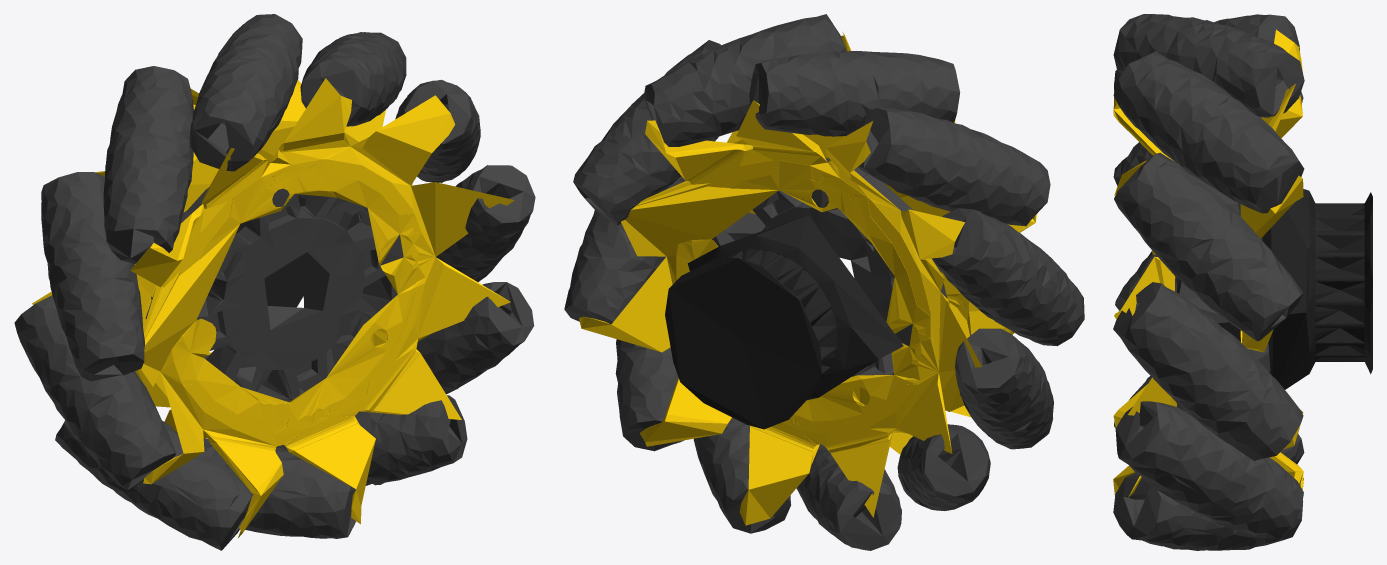
File: wheelFL.glb
3 views of the same model, side by side, from view 1: azimuth 30°, elevation 25°; view 2: azimuth 150°, elevation 25°; view 3: azimuth 270°, elevation 25° (orthographic).
Parts seen in each view (by area): view 1: wheelFL_1, wheelFL_2, wheelFL_0; view 2: wheelFL_1, wheelFL_2, wheelFL_0; view 3: wheelFL_1, wheelFL_0, wheelFL_2.
Boxes of the visible parts, left/top/right/bottom form: wheelFL_1: left=14, top=14, right=535, bottom=550; wheelFL_2: left=32, top=78, right=514, bottom=537; wheelFL_0: left=151, top=194, right=306, bottom=307; wheelFL_1: left=564, top=14, right=1084, bottom=550; wheelFL_2: left=579, top=31, right=1037, bottom=525; wheelFL_0: left=665, top=215, right=903, bottom=429; wheelFL_1: left=1113, top=14, right=1304, bottom=550; wheelFL_0: left=1262, top=189, right=1372, bottom=389; wheelFL_2: left=1113, top=29, right=1303, bottom=497.
Size of the model in its own units: 4.09 by 4.09 by 1.98.
